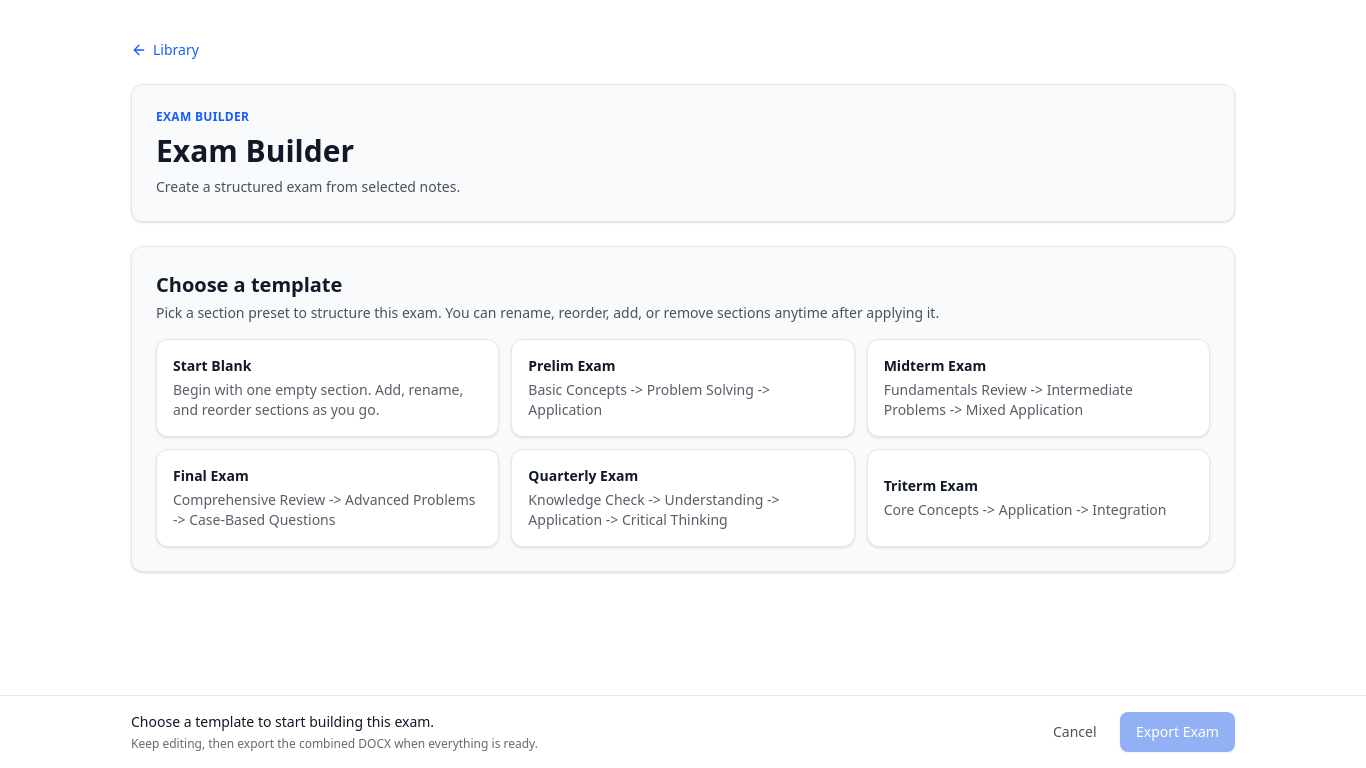
Scenario: Exam Builder page › shows an Add Notes empty state when every quiz-ready note is already selected
Click the button named "Start Blank Begin with one empty section. Add, rename, and reorder sections as you go." at [328, 388], box [156,339,499,437]
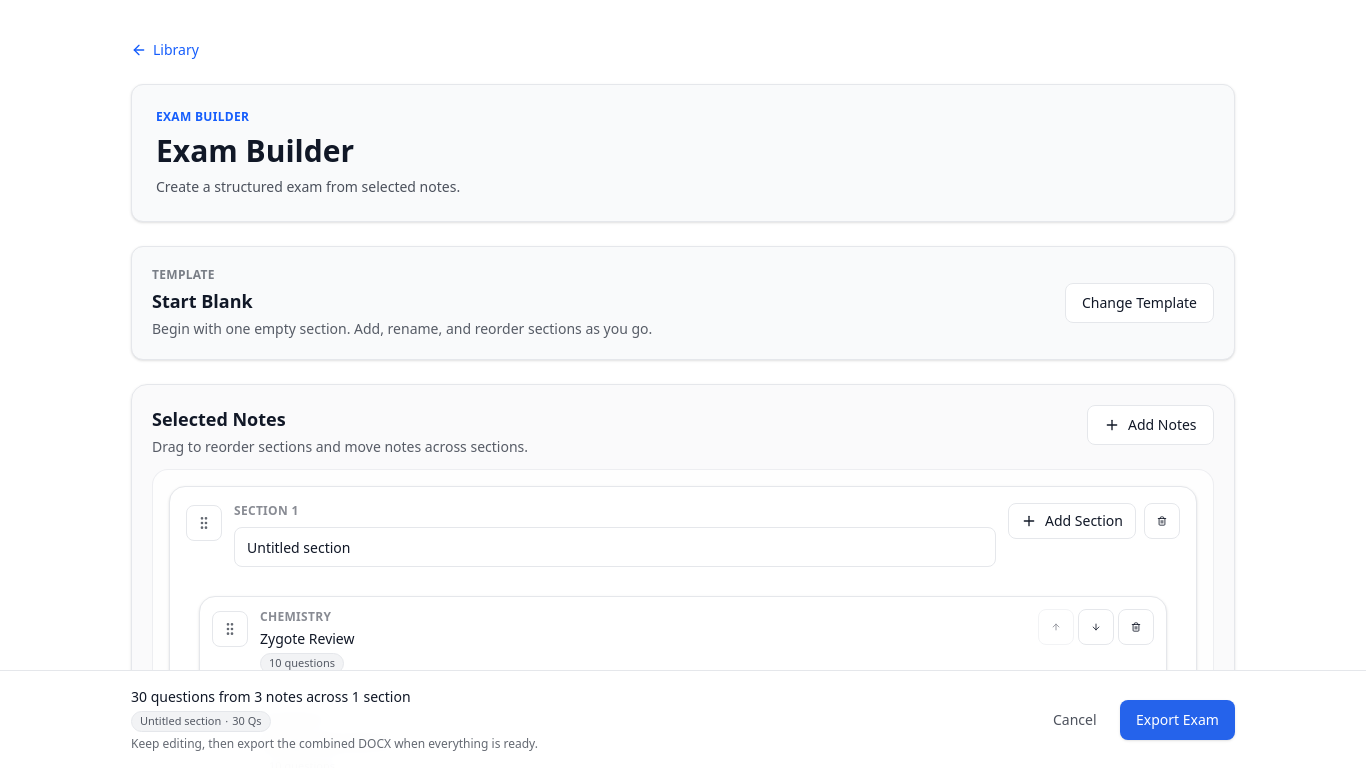
Click the button "Add Notes" at [1151, 425], box [1087,405,1214,445]
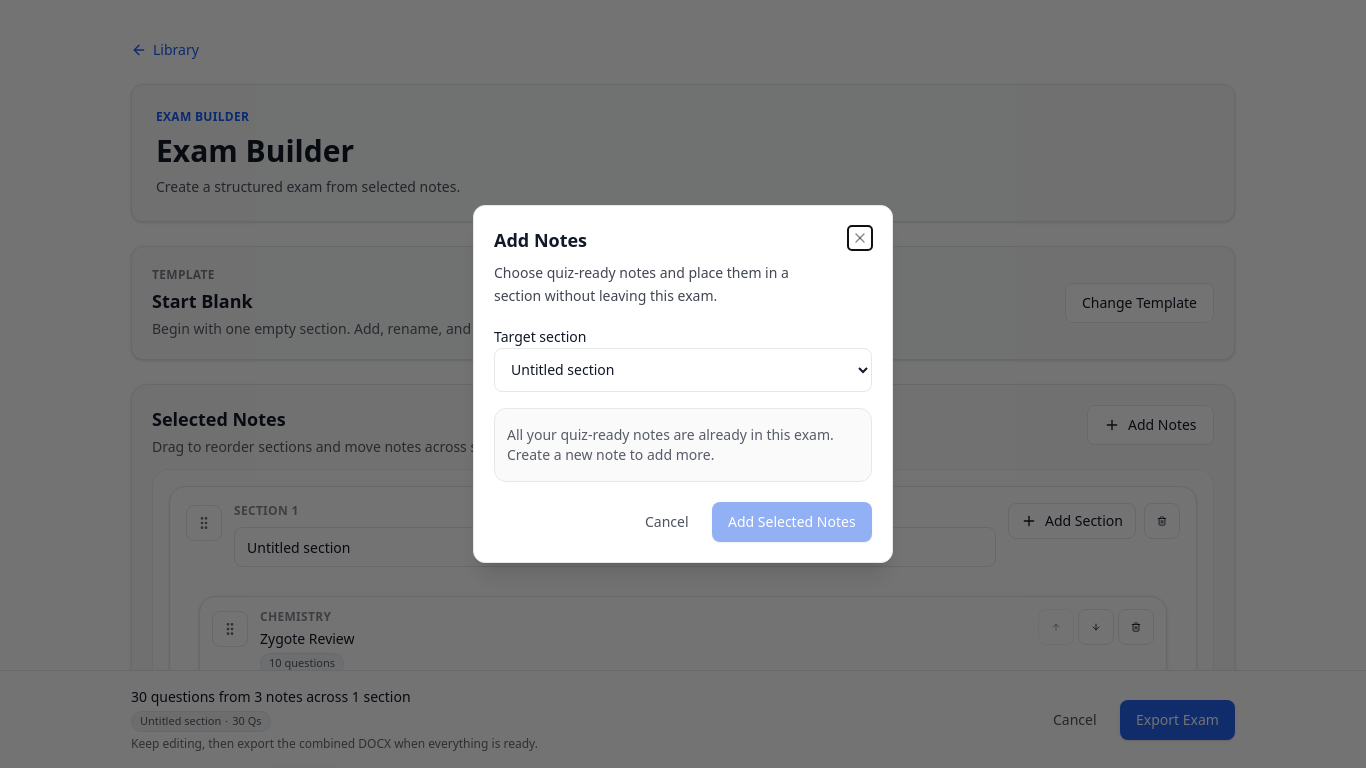
Check: the text "All your quiz-ready notes are already in this exam. Create a new note to add more." is shown, box [507,425,834,464]
